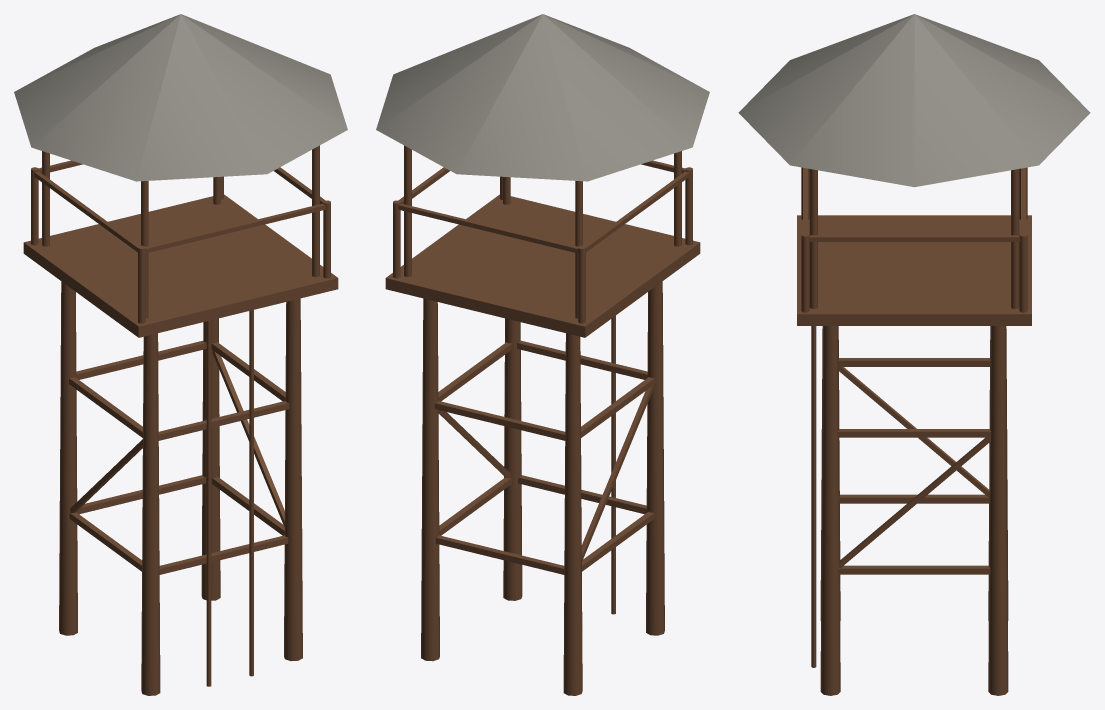
Rendered from watchtower-lod1.glb.
3 renders of one model, left to right at view 1: azimuth 30°, elevation 25°; view 2: azimuth 150°, elevation 25°; view 3: azimuth 270°, elevation 25°, orthographic.
Parts seen in each view (by area): view 1: roof, platform, leg (×4), brace-front (×4), ladder-rail (×2), brace-side (×4), roof-post (×3), cross-brace (×2), rail-post (×3), rail-front, rail-side; view 2: roof, platform, leg (×4), brace-front (×4), brace-side (×4), roof-post (×3), cross-brace (×2), rail-post (×3), rail-front, ladder-rail, rail-side; view 3: roof, platform, leg (×4), brace-side (×4), cross-brace (×2), roof-post (×2), ladder-rail, rail-side, rail-post (×2).
Part boxes in pixels (x1=…): roof: x1=14, y1=14, x2=347, y2=181; platform: x1=23, y1=194, x2=338, y2=337; leg (×4): x1=59, y1=281, x2=302, y2=695; brace-front (×4): x1=76, y1=340, x2=289, y2=574; ladder-rail (×2): x1=206, y1=310, x2=253, y2=686; brace-side (×4): x1=69, y1=342, x2=285, y2=571; roof-post (×3): x1=42, y1=145, x2=319, y2=318; cross-brace (×2): x1=70, y1=350, x2=284, y2=526; rail-post (×3): x1=31, y1=167, x2=330, y2=323; rail-front: x1=145, y1=203, x2=325, y2=253; rail-side: x1=34, y1=171, x2=140, y2=252; roof: x1=376, y1=14, x2=709, y2=181; platform: x1=385, y1=194, x2=700, y2=337; leg (×4): x1=421, y1=281, x2=664, y2=695; brace-front (×4): x1=434, y1=340, x2=647, y2=574; brace-side (×4): x1=438, y1=342, x2=654, y2=571; roof-post (×3): x1=404, y1=145, x2=681, y2=318; cross-brace (×2): x1=438, y1=385, x2=653, y2=561; rail-post (×3): x1=393, y1=167, x2=692, y2=323; rail-front: x1=398, y1=203, x2=578, y2=253; ladder-rail: x1=611, y1=315, x2=615, y2=614; rail-side: x1=583, y1=171, x2=689, y2=252; roof: x1=738, y1=14, x2=1090, y2=187; platform: x1=797, y1=215, x2=1031, y2=325; leg (×4): x1=820, y1=326, x2=1008, y2=695; brace-side (×4): x1=837, y1=358, x2=991, y2=574; cross-brace (×2): x1=838, y1=367, x2=990, y2=567; roof-post (×2): x1=809, y1=169, x2=1019, y2=308; ladder-rail: x1=811, y1=326, x2=816, y2=667; rail-side: x1=808, y1=235, x2=1020, y2=241; rail-post (×2): x1=801, y1=233, x2=1027, y2=312.
Bounding box in the file's own units: 4.2 × 8.45 × 4.2.
